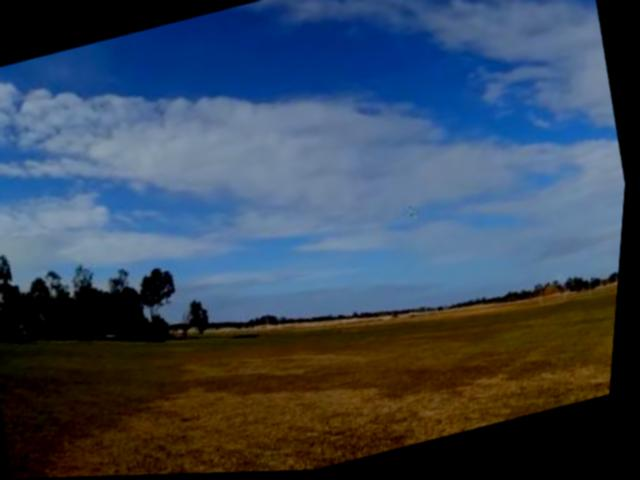uav: (400, 195, 434, 234)
